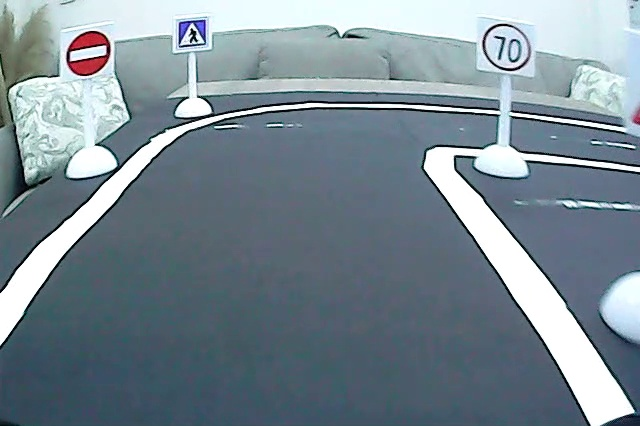do not enter: (63, 27, 114, 80)
pedestrian crossing: (176, 16, 208, 49)
speed limit 70: (480, 20, 535, 75)
